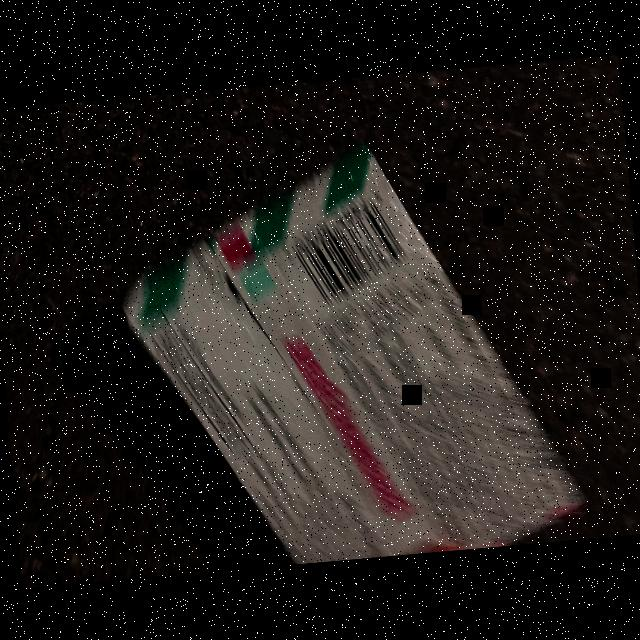snack_bag: (83, 146, 594, 578)
